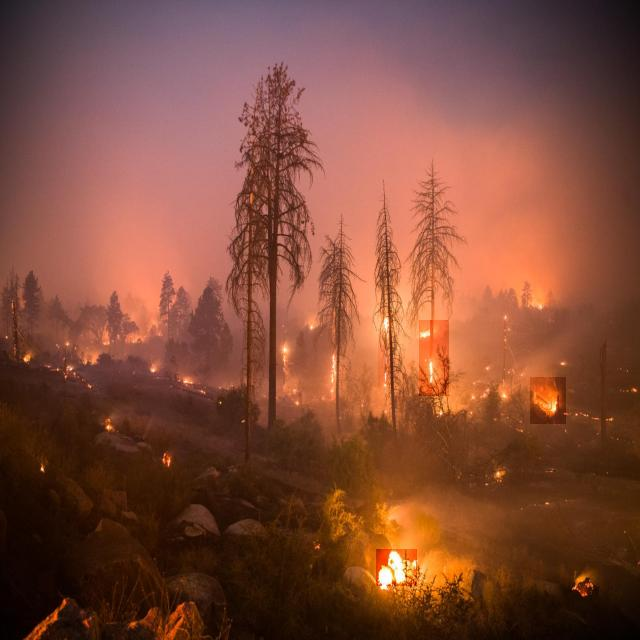Fire: (420, 320, 450, 396), (530, 377, 566, 424), (376, 549, 417, 586), (378, 310, 393, 389)
